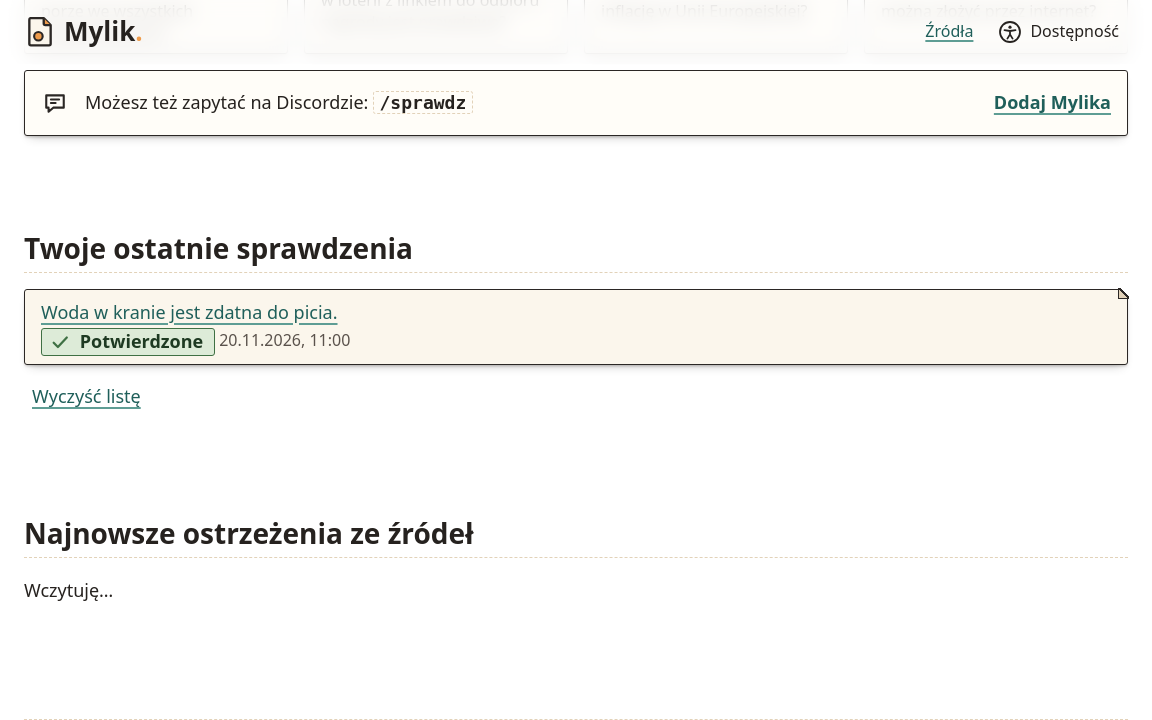
strona główna › pokazuje ostatnie sprawdzenia z przeglądarki i pozwala je wyczyścić
(page scrolled)
Click the button "Wyczyść listę": (86, 397) 24,373 -> 149,421
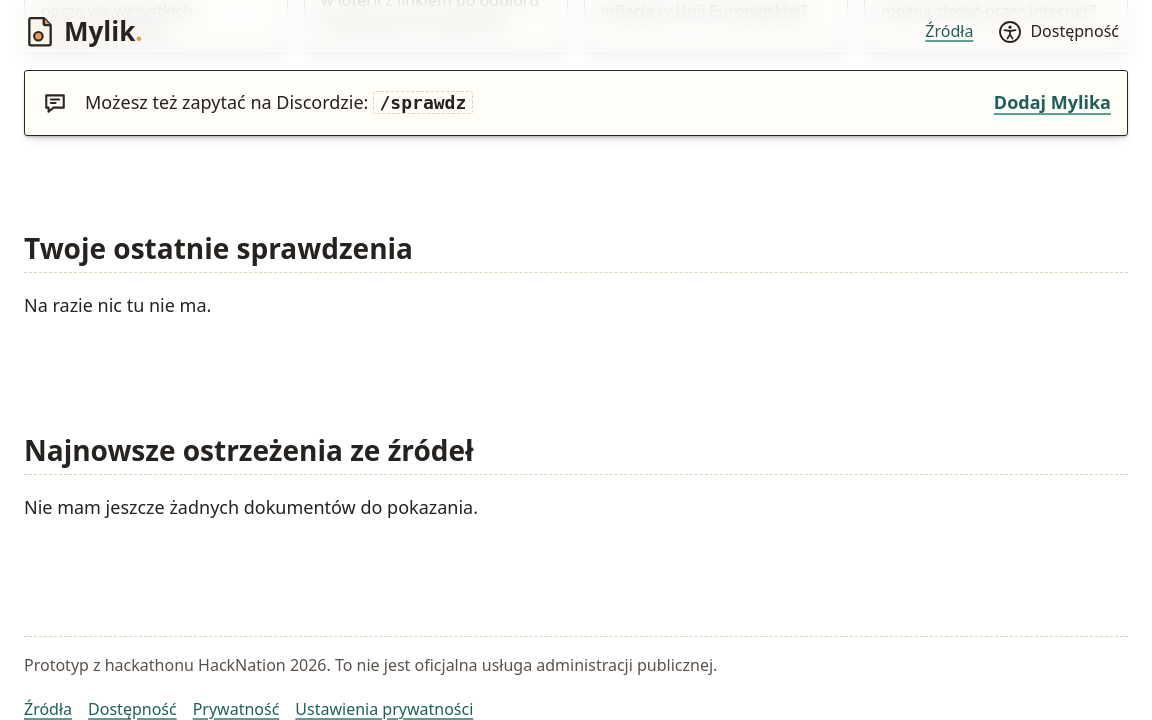
Expected: the text "Na razie nic tu nie ma." is shown, 24,293 -> 211,317
